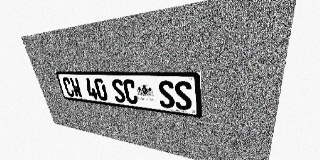0: (93, 78, 108, 101)
4: (84, 78, 99, 100)
C: (122, 79, 139, 105), (62, 77, 75, 97)
S: (174, 81, 192, 111), (157, 80, 175, 109), (111, 79, 127, 103)
W: (69, 77, 83, 98)
